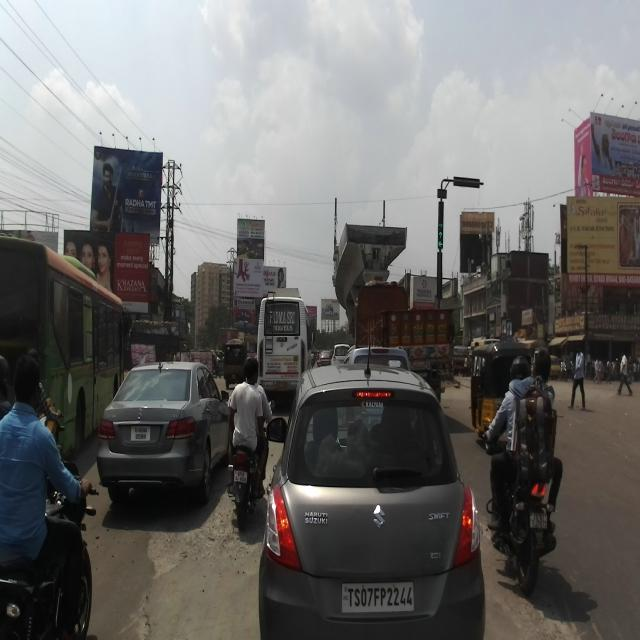autorickshaw: (467, 341, 531, 453)
bus: (0, 231, 129, 464)
car: (258, 360, 486, 640), (97, 359, 230, 506)
motorcycle: (0, 460, 98, 640), (476, 401, 557, 594), (225, 399, 276, 531)
